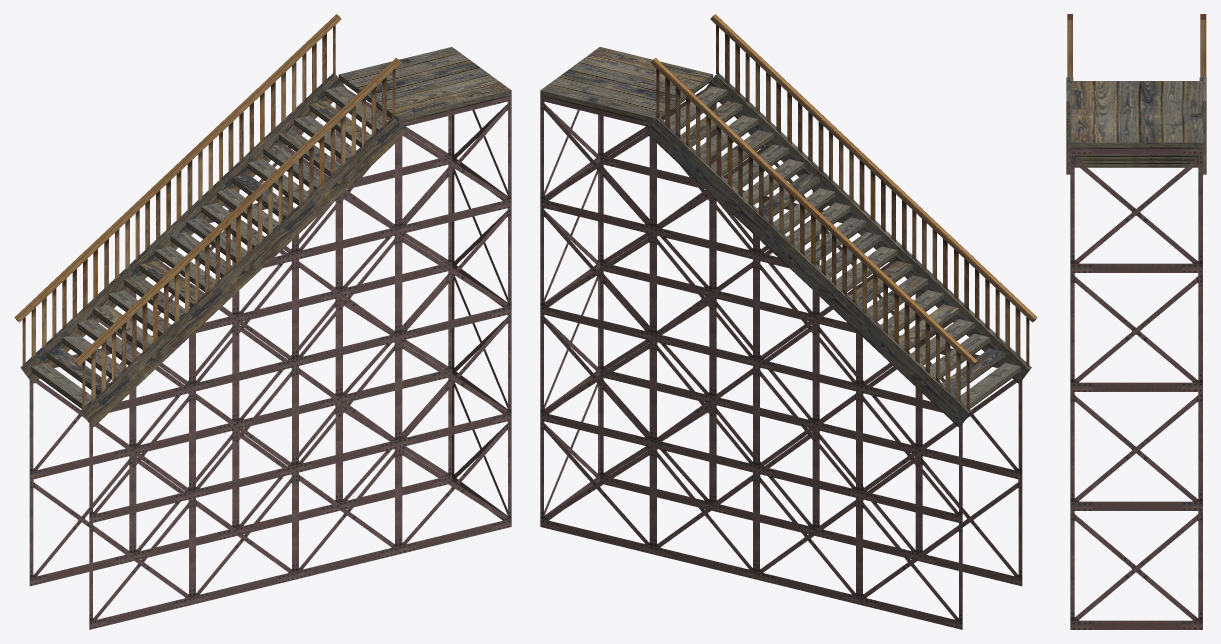
File: cxref_woodstair.obj
The picture shows the model from 3 angles, left to right: view 1: azimuth 30°, elevation 25°; view 2: azimuth 150°, elevation 25°; view 3: azimuth 270°, elevation 25°; orthographic projection. The views are drawn at different scales.
Parts seen in each view (by area): view 1: cxref_woodstair; view 2: cxref_woodstair; view 3: cxref_woodstair.
Part boxes in pixels (box(x1,y1,x2,y2)): cxref_woodstair: box(14, 14, 511, 629); cxref_woodstair: box(540, 14, 1037, 629); cxref_woodstair: box(1066, 14, 1206, 629).
Bounding box in the file's own units: 8.47 × 9.21 × 2.11.
Materials: 5 (5 with a texture image).
